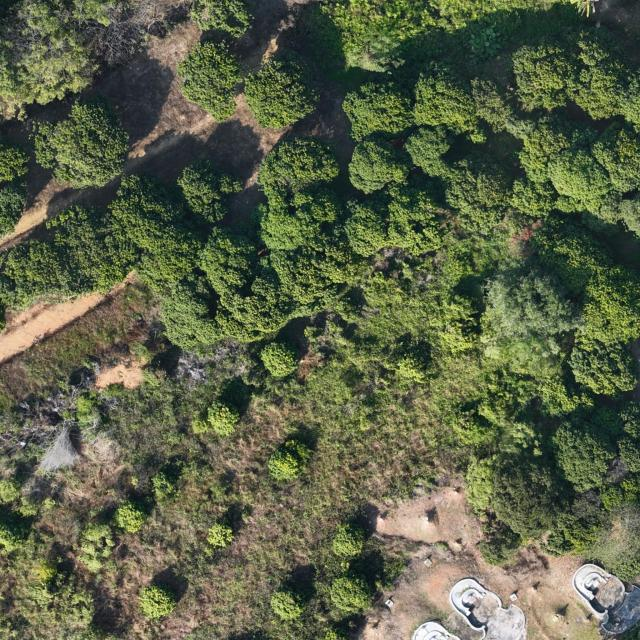Tree: (0, 0, 98, 107), (255, 134, 341, 252), (463, 449, 572, 542), (31, 95, 130, 191), (567, 24, 640, 131), (410, 61, 489, 146), (242, 49, 321, 132), (177, 40, 246, 122), (549, 416, 619, 494), (173, 155, 244, 226), (340, 77, 416, 143), (510, 34, 570, 113), (467, 76, 536, 140), (347, 132, 410, 195), (406, 124, 456, 178), (186, 0, 251, 40), (266, 438, 311, 483), (259, 338, 301, 383), (327, 574, 375, 613), (331, 520, 370, 562), (205, 399, 242, 439), (138, 583, 177, 620), (113, 501, 145, 536), (269, 588, 301, 622), (149, 467, 179, 502), (206, 517, 238, 549)
